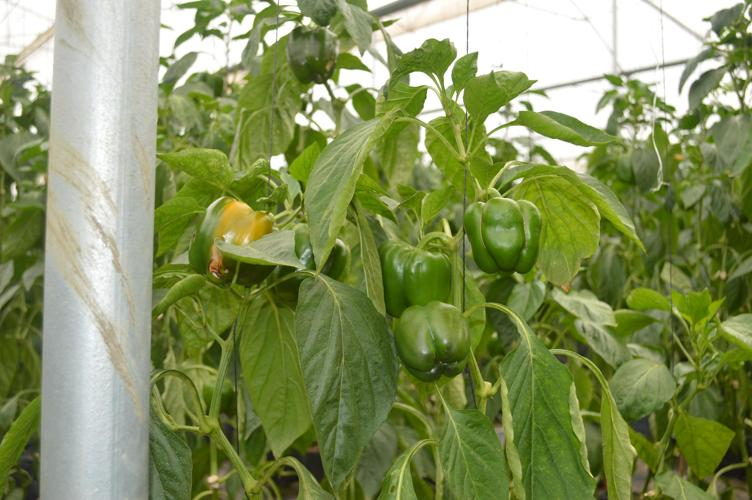BellPepper: (180, 192, 291, 294), (385, 299, 483, 395), (465, 189, 555, 284), (370, 237, 459, 317), (272, 17, 358, 94)
